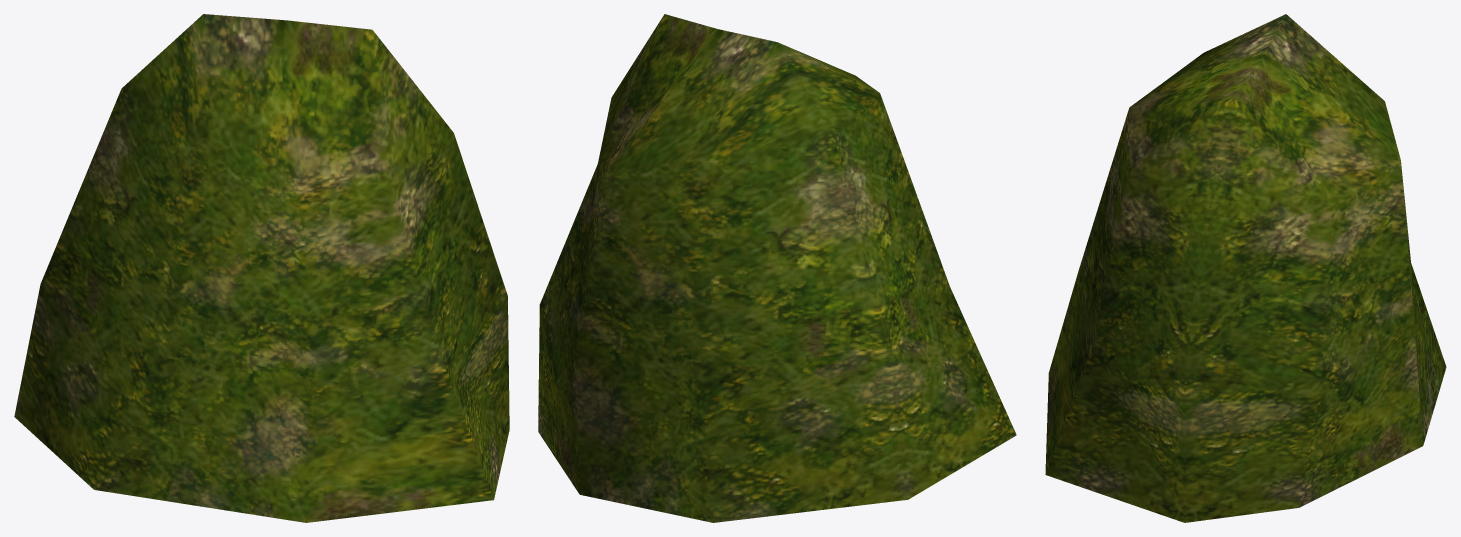
The model's file is OVERHILL_A_01_ROCK22.fbx.
3 renders of one model, left to right at view 1: azimuth 30°, elevation 25°; view 2: azimuth 150°, elevation 25°; view 3: azimuth 270°, elevation 25°, orthographic. The views are drawn at different scales.
Parts seen in each view (by area): view 1: OVERHILL_A_01_ROCK22; view 2: OVERHILL_A_01_ROCK22; view 3: OVERHILL_A_01_ROCK22.
Boxes of the visible parts, bbox=[...] form: OVERHILL_A_01_ROCK22: bbox=[14, 14, 509, 522]; OVERHILL_A_01_ROCK22: bbox=[538, 14, 1016, 522]; OVERHILL_A_01_ROCK22: bbox=[1045, 14, 1446, 522].
Size of the model in its own units: 18357 by 18105 by 16556.
Materials: 1 (1 with a texture image).
